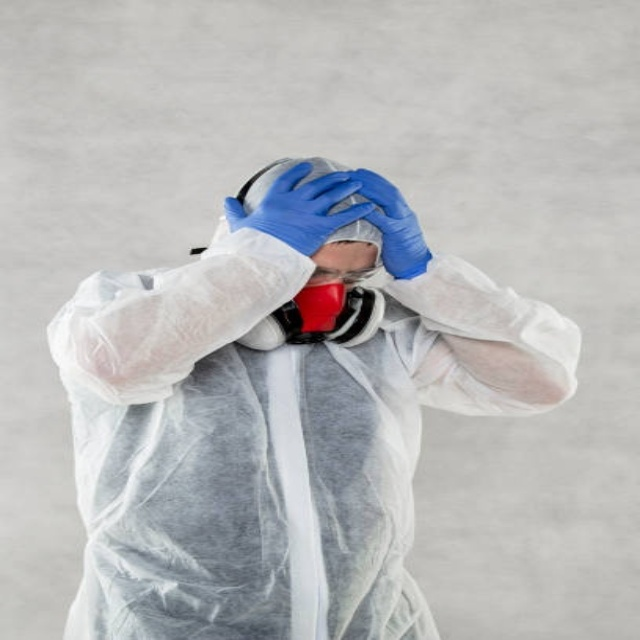Gafas: (306, 256, 383, 288)
Guantes: (218, 157, 384, 253), (325, 169, 431, 280)
Mascara: (236, 278, 383, 351)
